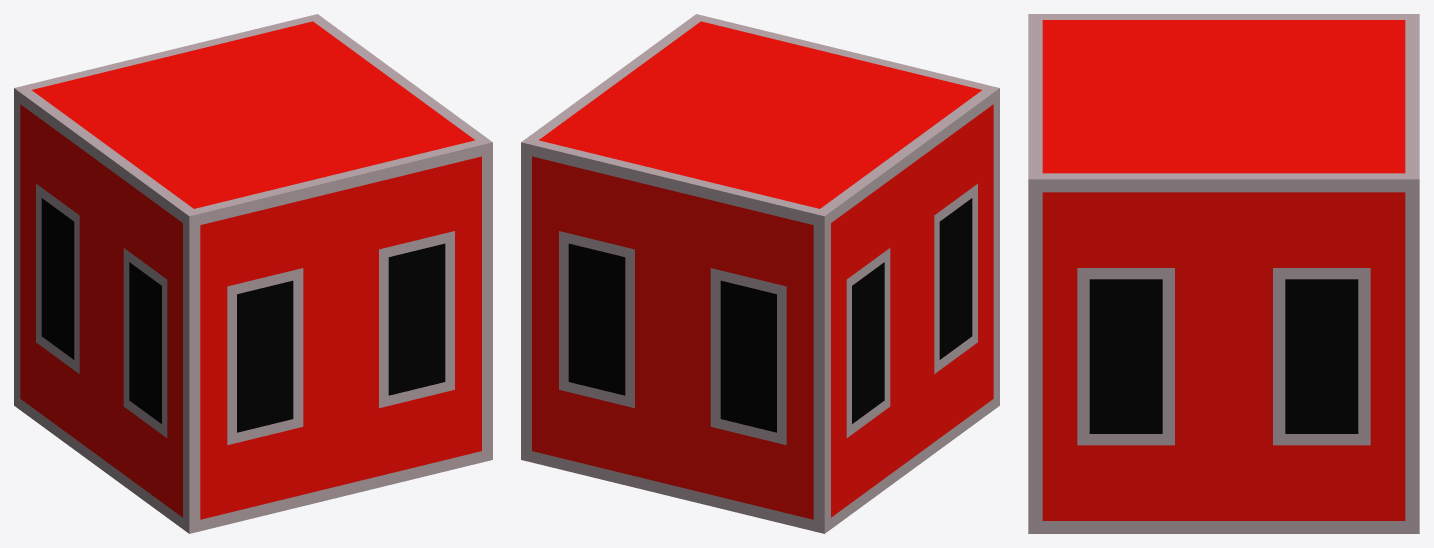
File: building_piece.fbx
The picture shows the model from 3 angles, left to right: view 1: azimuth 30°, elevation 25°; view 2: azimuth 150°, elevation 25°; view 3: azimuth 270°, elevation 25°; orthographic projection. The views are drawn at different scales.
Parts seen in each view (by area): view 1: building_piece.002, building_piece.001, building_piece; view 2: building_piece.002, building_piece.001, building_piece; view 3: building_piece.002, building_piece.001, building_piece.
Part boxes in pixels (x1,y1,x2,y2): building_piece.002: [20, 21, 481, 519]; building_piece.001: [14, 14, 492, 533]; building_piece: [41, 198, 445, 432]; building_piece.002: [532, 21, 993, 519]; building_piece.001: [521, 14, 999, 533]; building_piece: [568, 198, 972, 432]; building_piece.002: [1042, 20, 1405, 520]; building_piece.001: [1028, 14, 1419, 533]; building_piece: [1089, 279, 1358, 433].
Bounding box in the file's own units: 100 × 100 × 100.
